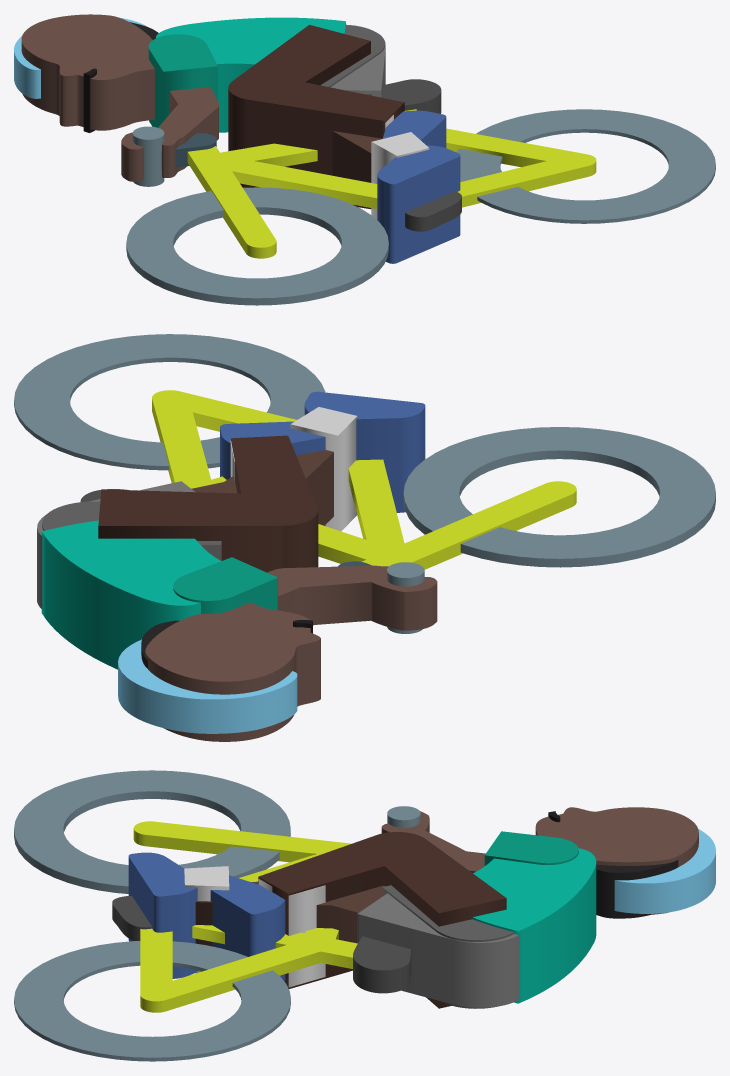
The model's file is emoji_u1f6b4_1f3ff_200d_2642.glb.
The picture shows the model from 3 angles, top to bottom: view 1: azimuth 30°, elevation 25°; view 2: azimuth 150°, elevation 25°; view 3: azimuth 270°, elevation 25°; orthographic projection. The views are drawn at different scales.
Parts seen in each view (by area): view 1: emoji_u1f6b4_1f3ff_200d_2642; view 2: emoji_u1f6b4_1f3ff_200d_2642; view 3: emoji_u1f6b4_1f3ff_200d_2642.
Part boxes in pixels (x1,y1,x2,y2): emoji_u1f6b4_1f3ff_200d_2642: [14, 14, 715, 305]; emoji_u1f6b4_1f3ff_200d_2642: [14, 334, 715, 741]; emoji_u1f6b4_1f3ff_200d_2642: [14, 770, 715, 1061].
Bounding box in the file's own units: 0.0321 × 0.005 × 0.0334.
